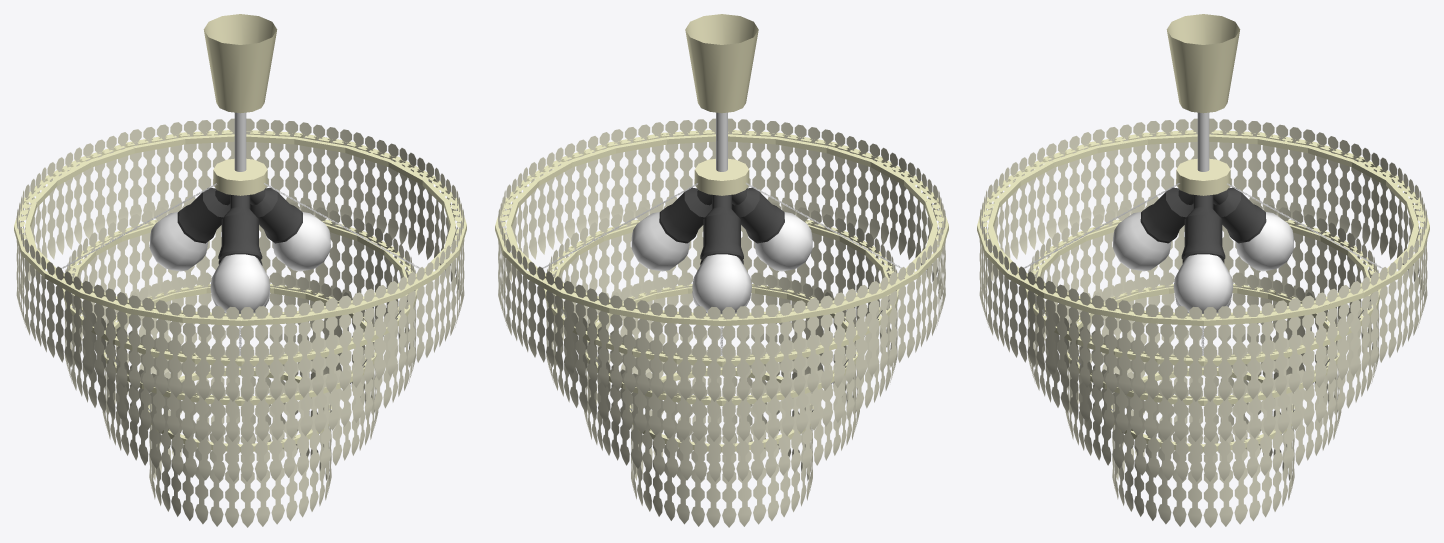
Rendered from chandelier8.glb.
3 views of the same model, side by side, from view 1: azimuth 30°, elevation 25°; view 2: azimuth 150°, elevation 25°; view 3: azimuth 270°, elevation 25° (orthographic).
Visible parts, largest first — view 1: Cascade_USSR_Lamp; view 2: Cascade_USSR_Lamp; view 3: Cascade_USSR_Lamp.
Part boxes in pixels (bbox=[...]): Cascade_USSR_Lamp: bbox=[14, 14, 466, 527]; Cascade_USSR_Lamp: bbox=[495, 14, 948, 527]; Cascade_USSR_Lamp: bbox=[977, 14, 1429, 527].
Bounding box in the file's own units: 0.6749 × 0.7601 × 0.6749.
8 materials, 3 textured.
